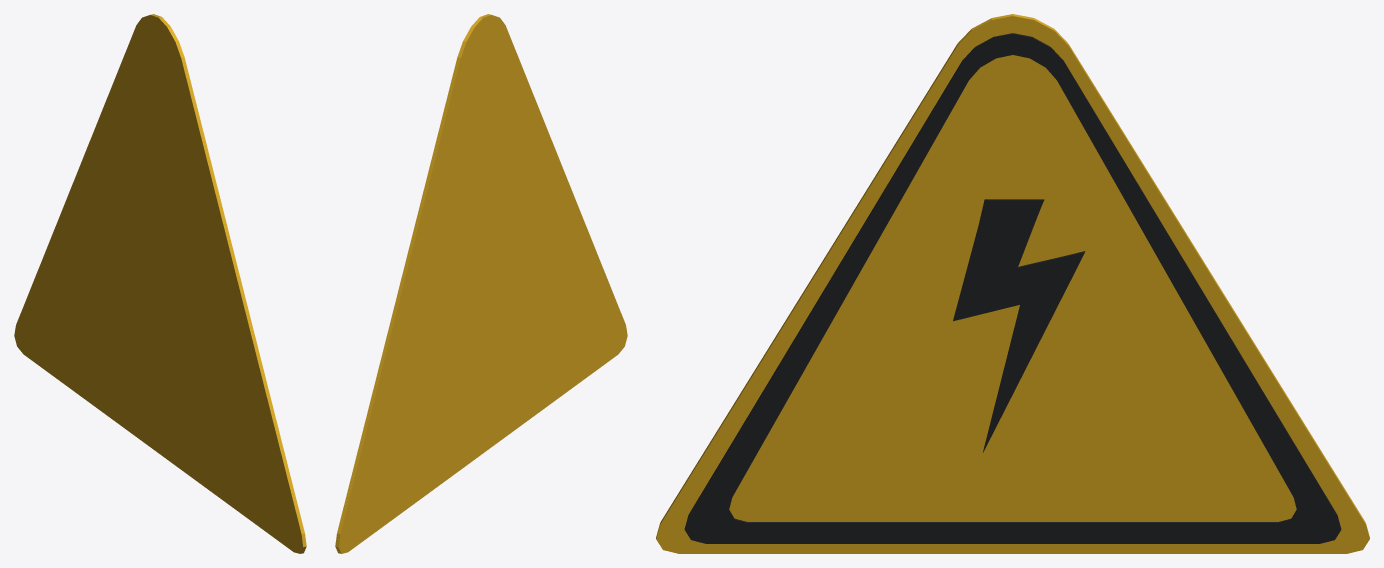
File: warning_sign.fbx
3 views of the same model, side by side, from view 1: azimuth 30°, elevation 25°; view 2: azimuth 150°, elevation 25°; view 3: azimuth 270°, elevation 25° (orthographic). The views are drawn at different scales.
Parts seen in each view (by area): view 1: Cube.001; view 2: Cube.001; view 3: Cube.001, Cube.002, Curve.
Part boxes in pixels (box(x1,y1,x2,y2)): Cube.001: box(14, 14, 306, 553); Cube.001: box(335, 14, 627, 553); Cube.001: box(656, 14, 1369, 553); Cube.002: box(684, 33, 1341, 543); Curve: box(953, 199, 1085, 452).
Size of the model in its own units: 0.6 by 48 by 57.73.
